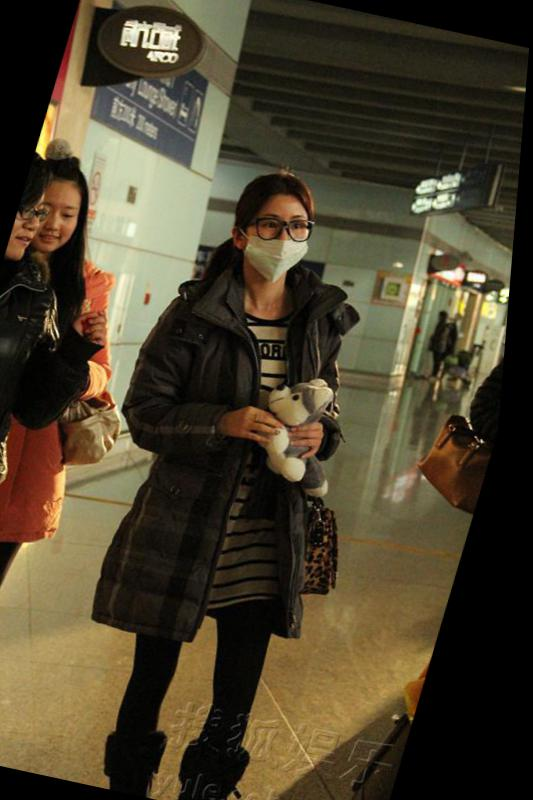NONE: (8, 198, 54, 266), (32, 198, 86, 255)
WRONG: (235, 200, 324, 284)
